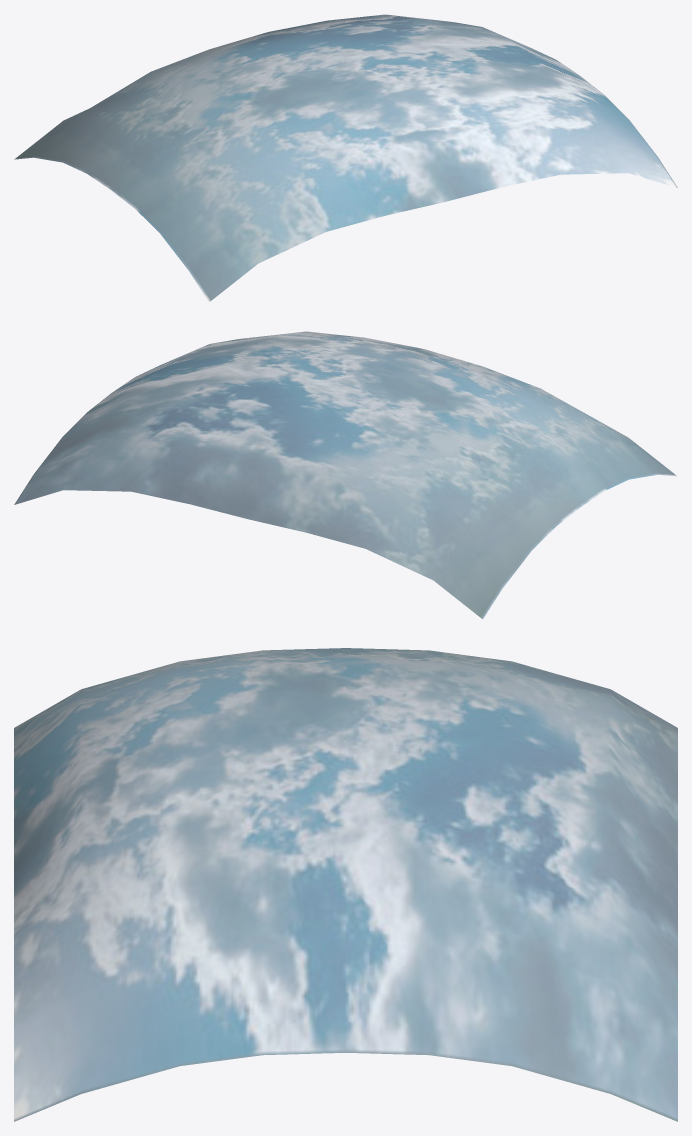
The picture shows the model from 3 angles, top to bottom: view 1: azimuth 30°, elevation 25°; view 2: azimuth 150°, elevation 25°; view 3: azimuth 270°, elevation 25°; orthographic projection. The views are drawn at different scales.
Visible parts, largest first — view 1: Plane01; view 2: Plane01; view 3: Plane01.
Boxes of the visible parts, box(x1,y1,x2,y2) form: Plane01: box(14, 14, 677, 302); Plane01: box(14, 331, 677, 619); Plane01: box(14, 648, 677, 1121).
Bounding box in the file's own units: 19262 × 4287 × 13891.
